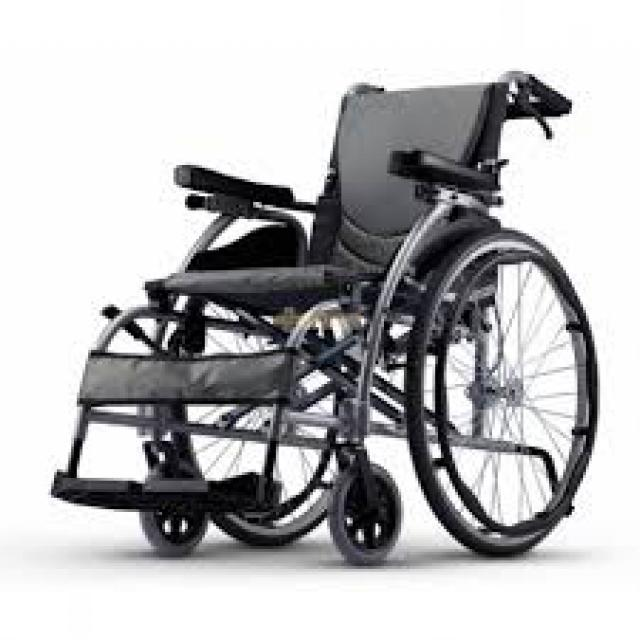wheelchair: (54, 68, 609, 572)
